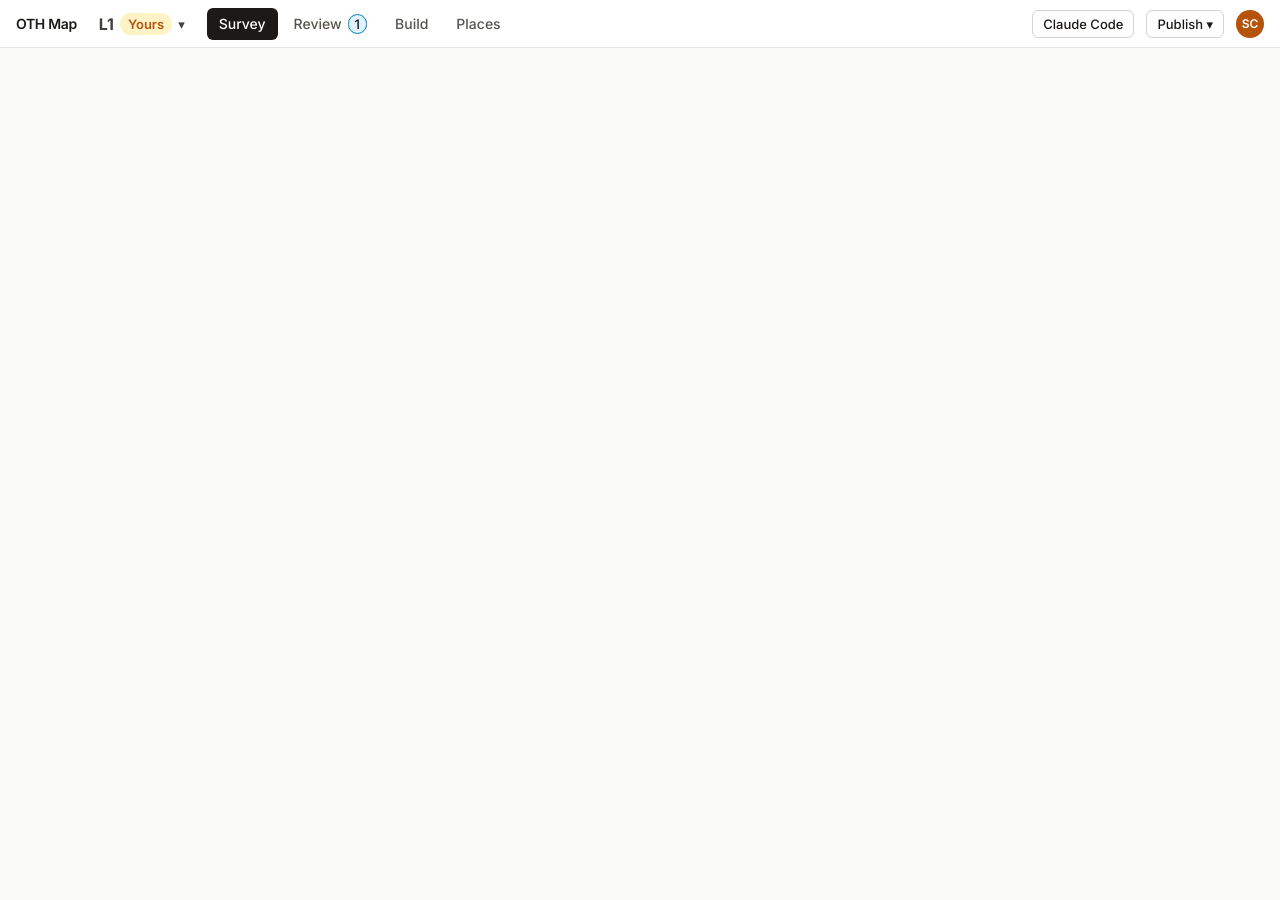
Test: Header › says in the switcher when the team could not be loaded
The image size is (1280, 900).
What coordinates should you click on to do the following:
click the button with aria-label "Floor L1"
I would click on:
 (142, 24)
Its box is [89, 10, 195, 38].
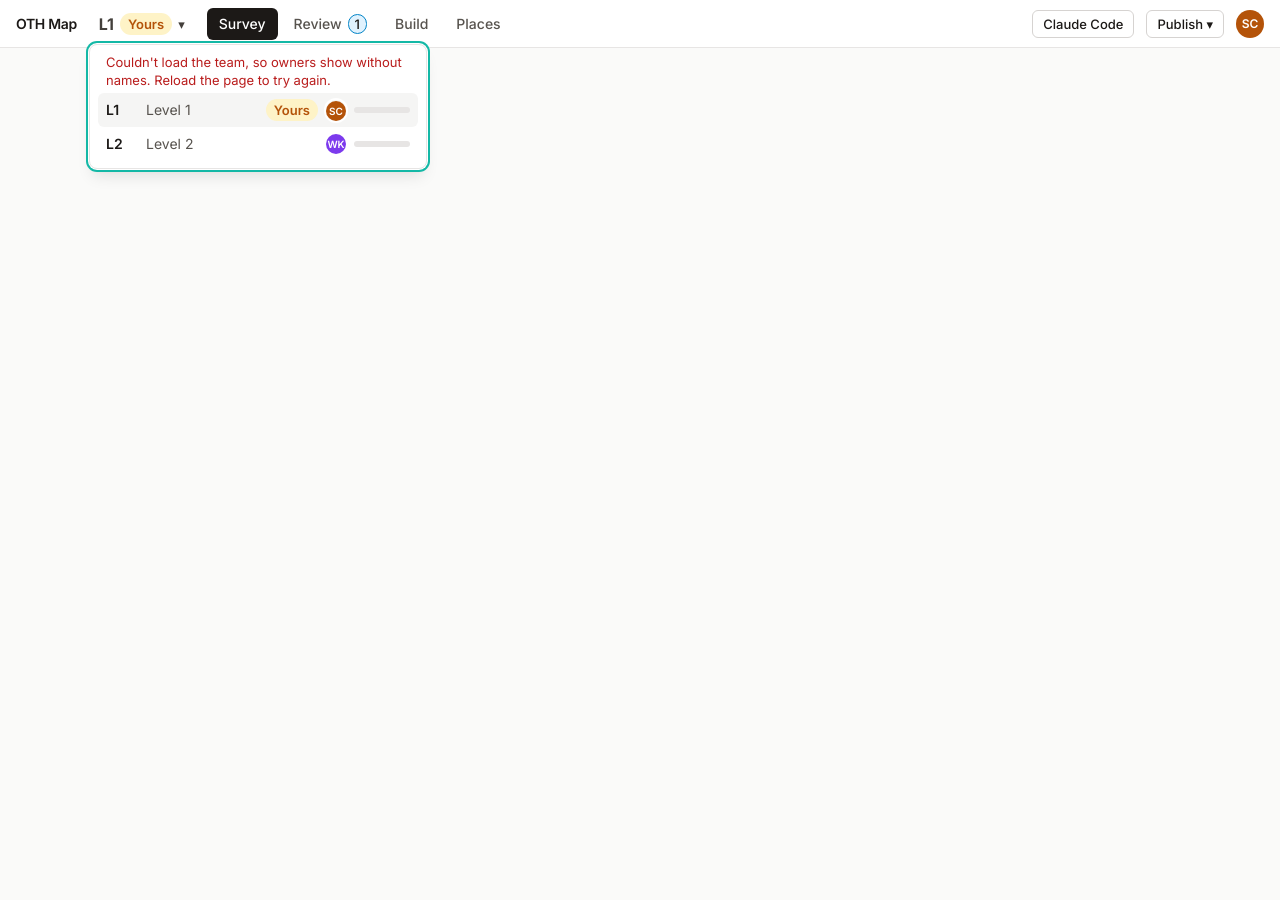
Result: the text "Couldn't load the team" is shown at [106, 54, 402, 88]
